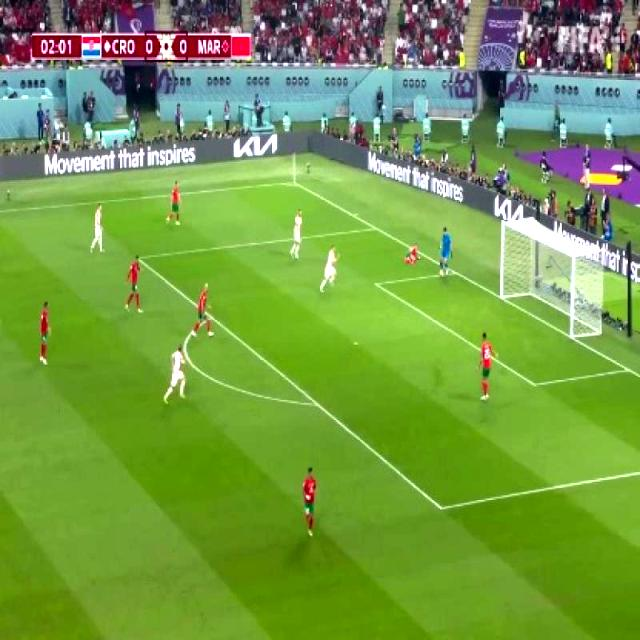bigarea_bottom_inner: (432, 494, 450, 522)
bigarea_top_inner: (134, 252, 142, 266)
bigarea_top_outter: (369, 222, 379, 232)
bottom_arc_area_intersection: (308, 394, 322, 412)
corner: (286, 179, 297, 186)
smallarea_bottom_inner: (526, 374, 540, 394)
smallarea_bottom_outter: (621, 360, 634, 378)
smallarea_top_inner: (371, 276, 382, 290)
smallarea_top_outter: (449, 268, 459, 277)
top_arc_area_intersection: (204, 310, 211, 322)
